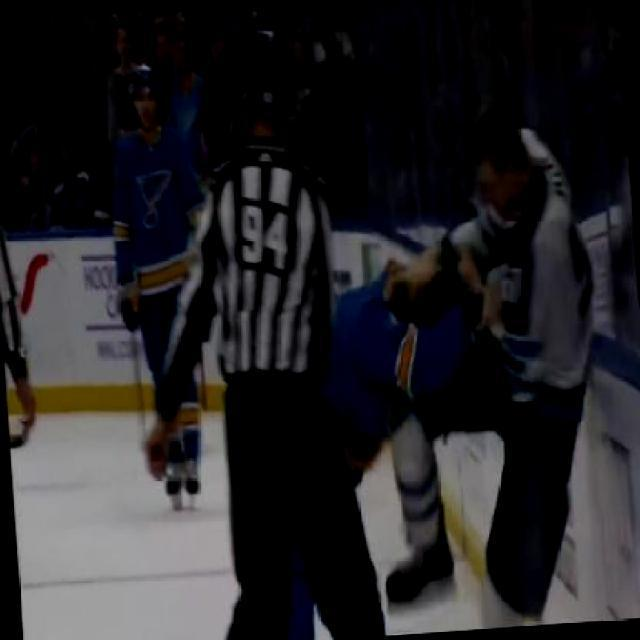fight: (243, 91, 619, 638)
non-fight: (104, 58, 232, 520)
